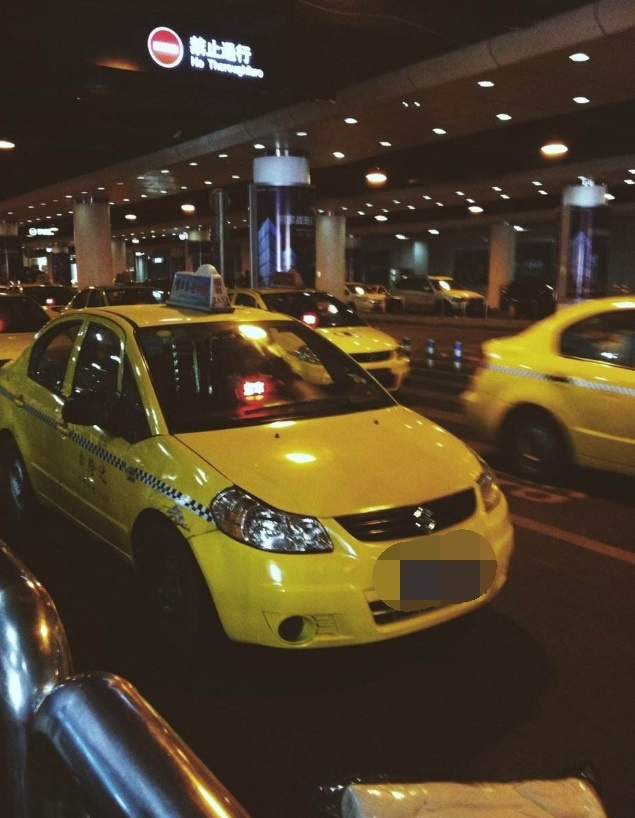taxi: (33, 253, 497, 656)
